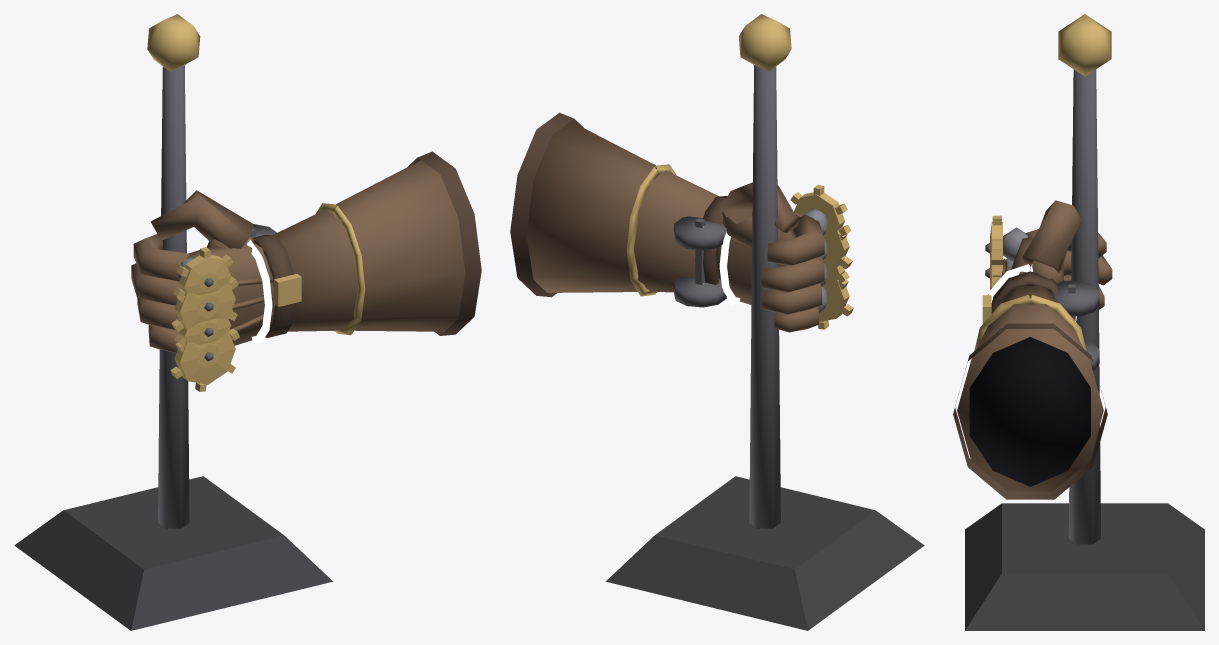
File: gauntlet-switch-hand.glb
3 views of the same model, side by side, from view 1: azimuth 30°, elevation 25°; view 2: azimuth 150°, elevation 25°; view 3: azimuth 270°, elevation 25° (orthographic). The views are drawn at different scales.
Visible parts, largest first — view 1: gauntlet-switch-hand; view 2: gauntlet-switch-hand; view 3: gauntlet-switch-hand.
Part boxes in pixels (x1,y1,x2,y2): gauntlet-switch-hand: [14, 14, 481, 630]; gauntlet-switch-hand: [510, 14, 924, 630]; gauntlet-switch-hand: [953, 14, 1204, 630].
Bounding box in the file's own units: 0.5407 × 0.8171 × 0.3329.
